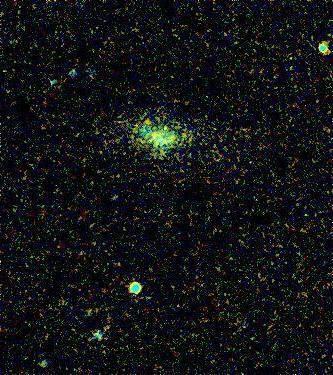star: (152, 116, 182, 146)
